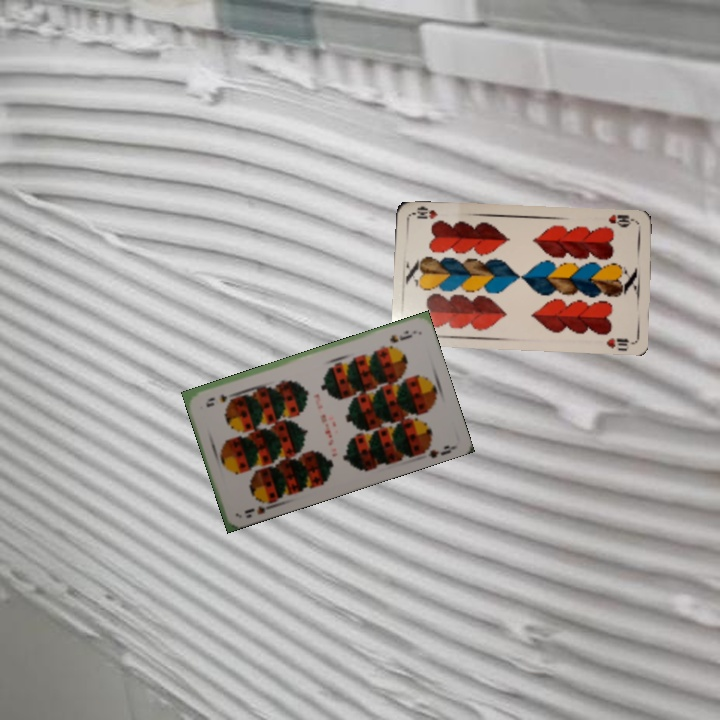H10: (605, 211, 638, 230)
S9: (240, 498, 277, 517), (385, 326, 411, 345)
